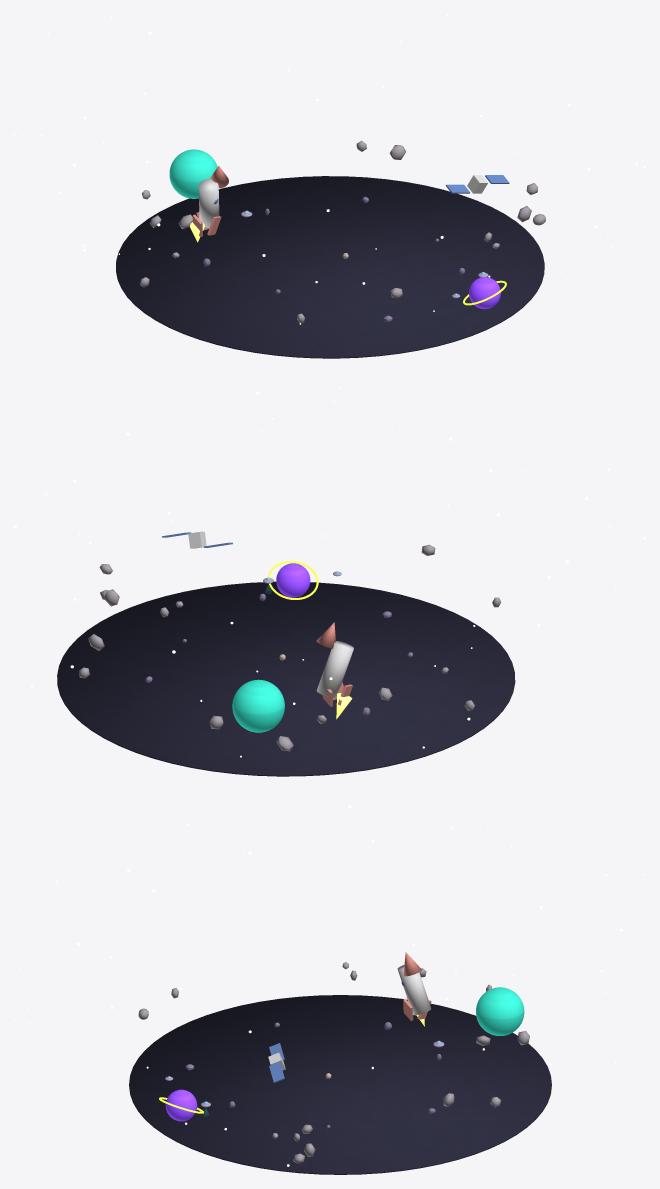
Rendered from stage-space.glb.
The picture shows the model from 3 angles, top to bottom: view 1: azimuth 30°, elevation 25°; view 2: azimuth 150°, elevation 25°; view 3: azimuth 270°, elevation 25°; orthographic projection. The views are drawn at different scales.
Visible parts, largest first — view 1: stage-space-diorama-floor, stage-space, Cylinder; view 2: stage-space-diorama-floor, stage-space, Cylinder; view 3: stage-space-diorama-floor, stage-space, Cylinder.
Part boxes in pixels (x1=…): stage-space-diorama-floor: x1=116, y1=176, x2=544, y2=358; stage-space: x1=169, y1=149, x2=506, y2=321; Cylinder: x1=198, y1=179, x2=219, y2=227; stage-space-diorama-floor: x1=57, y1=581, x2=515, y2=776; stage-space: x1=145, y1=560, x2=412, y2=732; Cylinder: x1=316, y1=641, x2=353, y2=698; stage-space-diorama-floor: x1=129, y1=995, x2=551, y2=1174; stage-space: x1=159, y1=987, x2=524, y2=1128; Cylinder: x1=397, y1=964, x2=431, y2=1015.
Bounding box in the file's own units: 101 × 30.82 × 103.
Materials: 22 (21 with a texture image).
